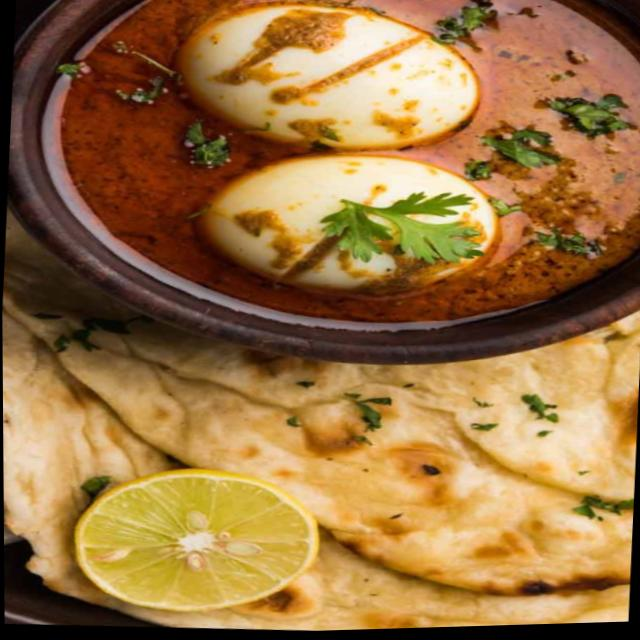EGG: (62, 0, 640, 322)
PAROTTA: (3, 210, 640, 599)
